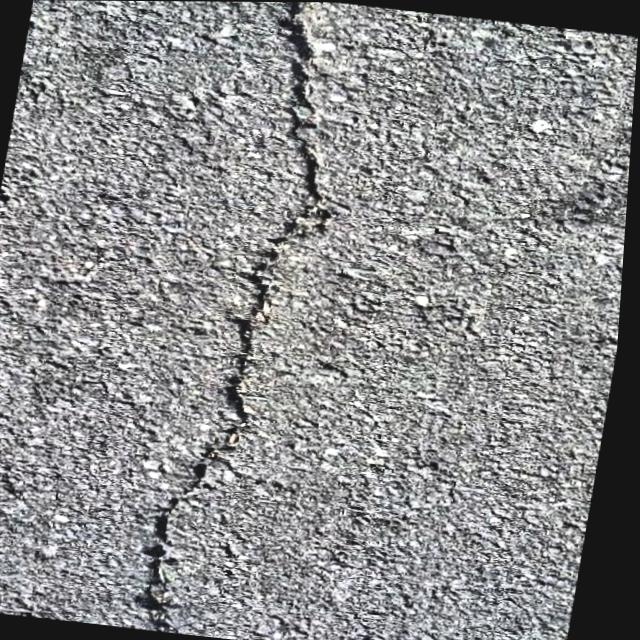cracks: (202, 2, 330, 463), (144, 463, 213, 577), (137, 573, 176, 633)
